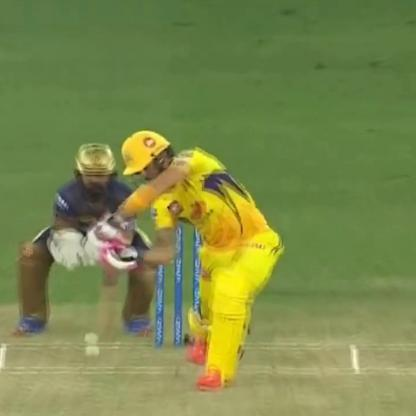ball: (81, 322, 102, 342), (80, 342, 103, 359)
bat: (93, 207, 125, 341)
pitch: (0, 331, 415, 415)
